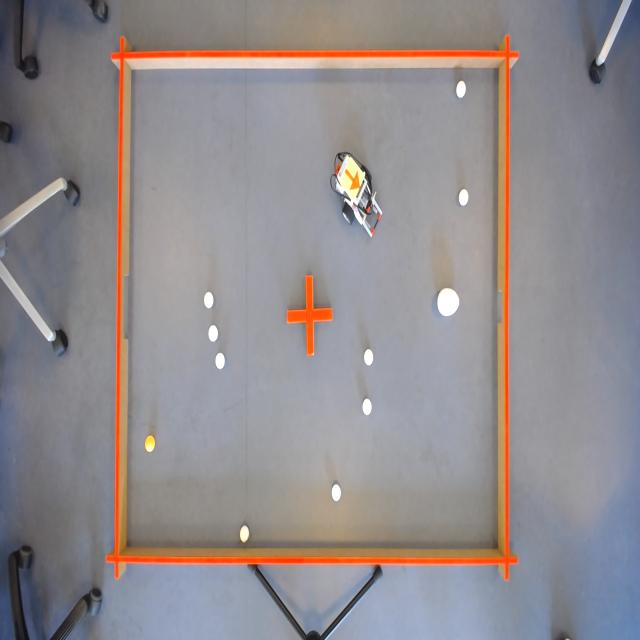cross: (286, 271, 334, 359)
egg: (436, 285, 461, 320)
orange_ball: (144, 432, 156, 457)
robot: (339, 156, 366, 204)
white_ball: (237, 522, 251, 546), (207, 321, 220, 346), (361, 395, 374, 419), (454, 76, 467, 100), (202, 289, 215, 312), (362, 346, 375, 369), (330, 481, 342, 505), (458, 186, 470, 208), (215, 350, 227, 371)
